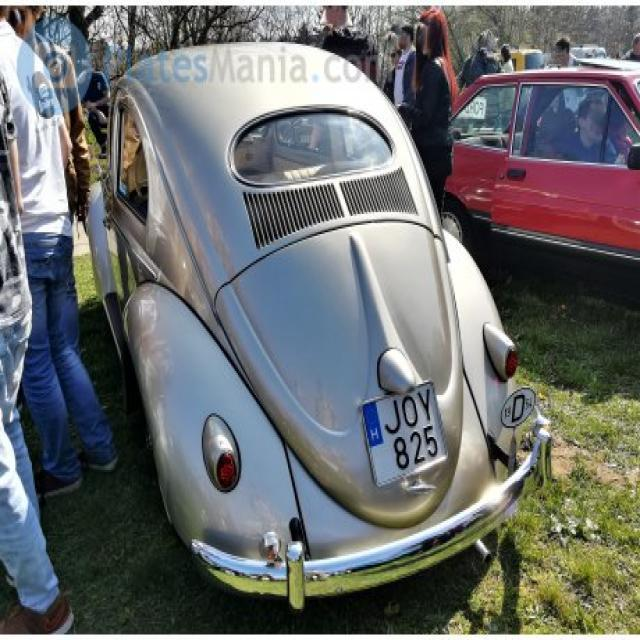licence: (355, 380, 450, 488)
